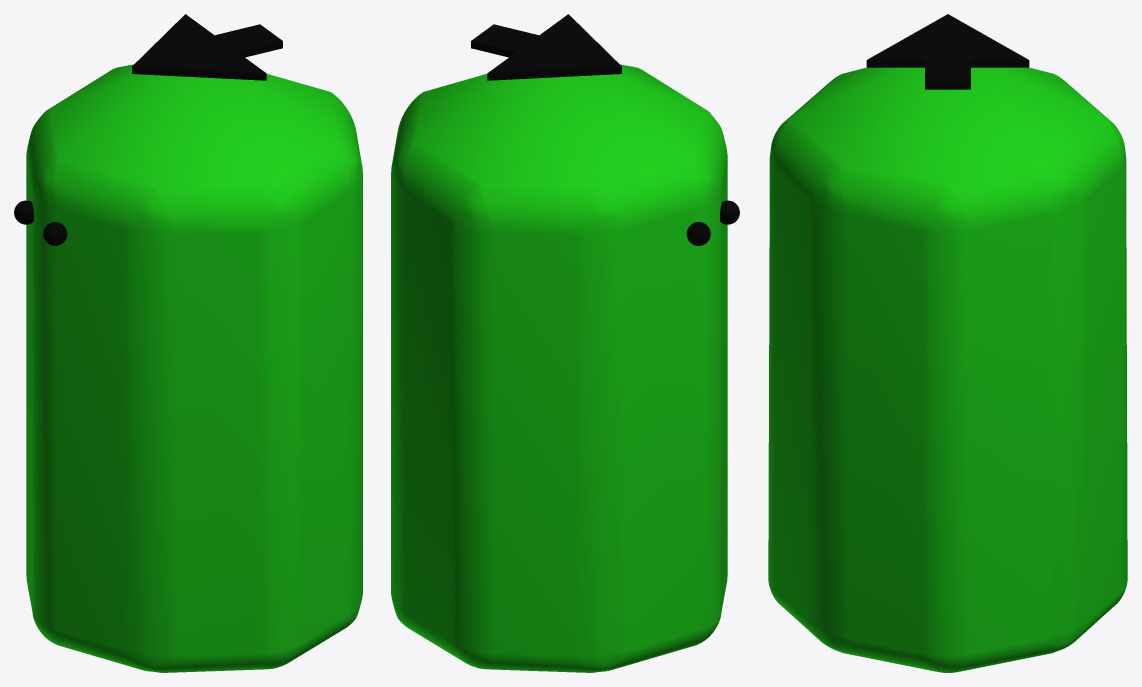
3 renders of one model, left to right at view 1: azimuth 30°, elevation 25°; view 2: azimuth 150°, elevation 25°; view 3: azimuth 270°, elevation 25°, orthographic.
Parts seen in each view (by area): view 1: Cube.020_Cube.008_Material.001, Cube.020_Cube.008_SVGMat; view 2: Cube.020_Cube.008_Material.001, Cube.020_Cube.008_SVGMat; view 3: Cube.020_Cube.008_Material.001, Cube.020_Cube.008_SVGMat.
Part boxes in pixels (x1,y1,x2,y2): Cube.020_Cube.008_Material.001: (26,64,362,672); Cube.020_Cube.008_SVGMat: (14,14,282,245); Cube.020_Cube.008_Material.001: (391,64,727,672); Cube.020_Cube.008_SVGMat: (471,14,739,245); Cube.020_Cube.008_Material.001: (768,67,1127,672); Cube.020_Cube.008_SVGMat: (866,14,1029,89).
Size of the model in its own units: 0.2642 by 0.4425 by 0.2565.
